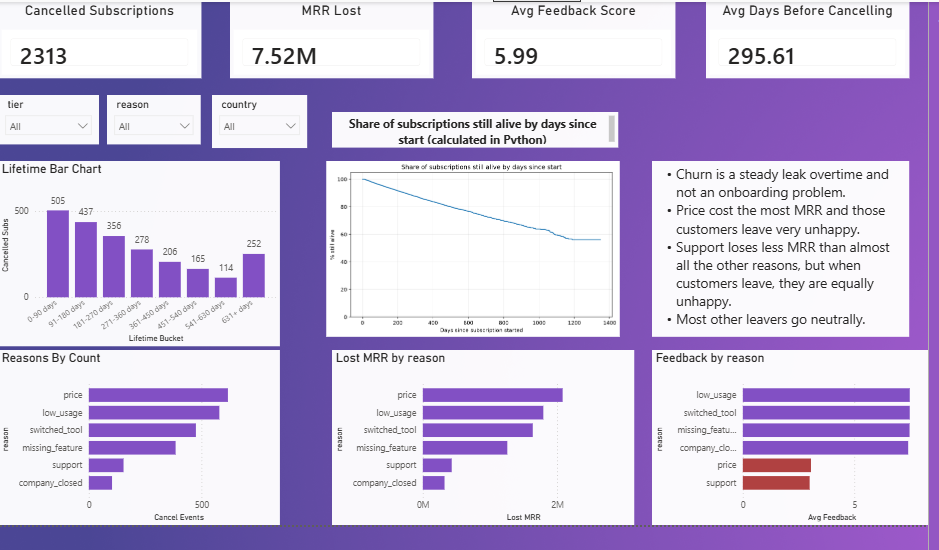

The page's visual inventory and layout, read from the dashboard file:
{"tool":"powerbi","page":{"name":"Churn","canvas":[1280,720],"ordinal":2},"visuals":[{"type":"cardVisual","title":"MRR Lost","fields":{"Data":["subscriptions.Lost MRR"]},"box":[319,0,279.5,105.4],"z":0},{"type":"cardVisual","title":"Avg Days Before Cancelling","fields":{"Data":["subscriptions.Avg Days Lived"]},"box":[974.8,0,279.9,105.5],"z":1000},{"type":"cardVisual","title":"Avg Feedback Score","fields":{"Data":["subscriptions.Avg Feedback"]},"box":[652.7,0,279.5,105.4],"z":2000},{"type":"cardVisual","title":"Cancelled Subscriptions","fields":{"Data":["Measures (2).Cancelled Subs"]},"box":[0,0,279.5,105.4],"z":3000},{"type":"clusteredColumnChart","title":"Lifetime Bar Chart","fields":{"Y":["Measures (2).Cancelled Subs"],"Category":["subscriptions.Lifetime Bucket"]},"box":[0,219.4,388.2,254.6],"z":4000},{"type":"image","box":[409.3,219.4,490.9,241.9],"z":5000},{"type":"clusteredBarChart","title":"Reasons By Count","fields":{"Y":["subscriptions.Cancel Events"],"Category":["churn_events.reason"]},"box":[0,479.6,388.2,240.5],"z":6000},{"type":"clusteredBarChart","fields":{"Category":["churn_events.reason"],"Y":["subscriptions.Lost MRR"]},"box":[460,479.6,416.4,240.5],"z":7000},{"type":"clusteredBarChart","title":"Feedback by reason","fields":{"Y":["subscriptions.Avg Feedback"],"Category":["churn_events.reason"]},"box":[900.2,479.6,379.8,240.5],"z":8000},{"type":"slicer","fields":{"Values":["plans.tier"]},"box":[0,128,139.3,67.5],"z":9000},{"type":"slicer","fields":{"Values":["accounts.country"]},"box":[294,128,130.8,73.1],"z":10000},{"type":"slicer","fields":{"Values":["churn_events.reason"]},"box":[150.5,128,129.4,67.5],"z":11000},{"type":"textbox","box":[460,151.9,393.8,49.2],"z":12000},{"type":"textbox","box":[900.2,219.4,354.5,241.9],"z":13000}]}

Visuals, with their boxes in screenshot pixels (x1, y1, x2, y2):
"MRR Lost" cardVisual: <bbox>228, 0, 431, 76</bbox>
"Avg Days Before Cancelling" cardVisual: <bbox>703, 0, 905, 76</bbox>
"Avg Feedback Score" cardVisual: <bbox>470, 0, 672, 76</bbox>
"Cancelled Subscriptions" cardVisual: <bbox>0, 0, 200, 76</bbox>
"Lifetime Bar Chart" clusteredColumnChart: <bbox>0, 159, 278, 343</bbox>
image: <bbox>294, 159, 649, 334</bbox>
"Reasons By Count" clusteredBarChart: <bbox>0, 347, 278, 521</bbox>
clusteredBarChart - churn_events.reason x subscriptions.Lost MRR: <bbox>330, 347, 632, 521</bbox>
"Feedback by reason" clusteredBarChart: <bbox>649, 347, 924, 521</bbox>
slicer - plans.tier: <bbox>0, 93, 98, 141</bbox>
slicer - accounts.country: <bbox>210, 93, 305, 145</bbox>
slicer - churn_events.reason: <bbox>106, 93, 200, 141</bbox>
textbox: <bbox>330, 110, 615, 145</bbox>
textbox: <bbox>649, 159, 905, 334</bbox>
